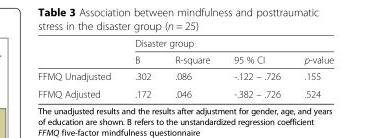table: (37, 37, 333, 99)
table column: (37, 37, 122, 99), (221, 37, 291, 99), (162, 37, 221, 99), (291, 37, 333, 99), (122, 37, 162, 99)
table column header: (37, 37, 333, 67)
table row: (37, 50, 333, 67), (37, 67, 333, 84), (37, 84, 333, 99), (37, 37, 333, 50)
table spanning cell: (122, 37, 333, 50)
